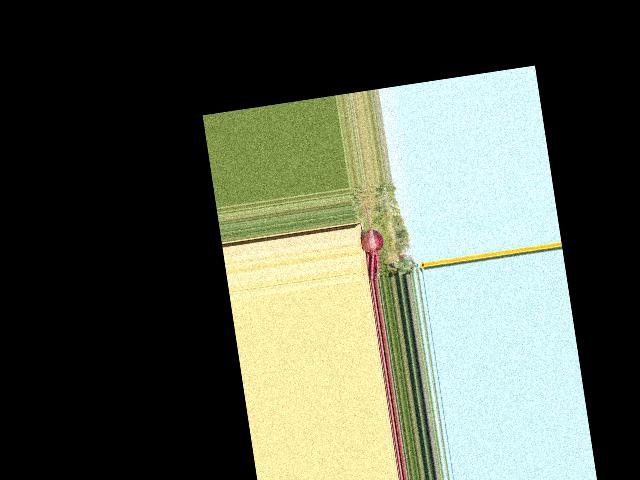beet: (352, 187, 388, 281)
